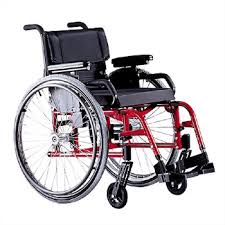wheelchair: (12, 24, 210, 205)
